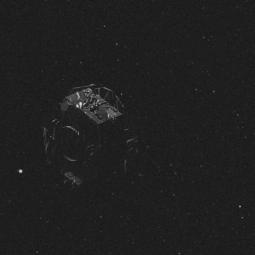lisa_pathfinder: (31, 82, 143, 194)
